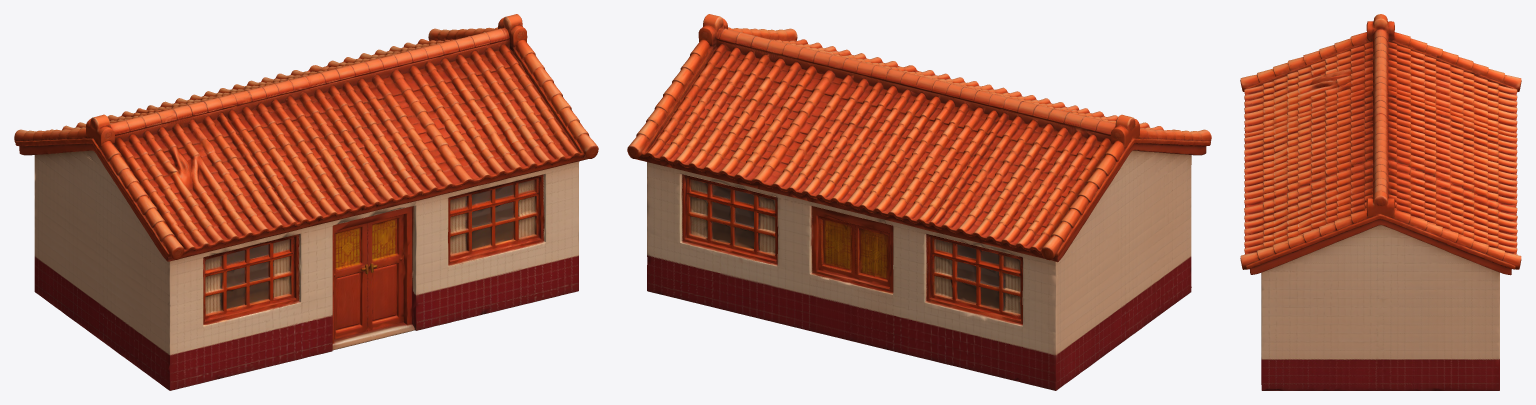
The model's file is main-house.glb.
The picture shows the model from 3 angles, left to right: view 1: azimuth 30°, elevation 25°; view 2: azimuth 150°, elevation 25°; view 3: azimuth 270°, elevation 25°; orthographic projection. The views are drawn at different scales.
Visible parts, largest first — view 1: tripo_node_3c93d61f-d715-45c0-92f2-b03ec6f75134; view 2: tripo_node_3c93d61f-d715-45c0-92f2-b03ec6f75134; view 3: tripo_node_3c93d61f-d715-45c0-92f2-b03ec6f75134.
Part boxes in pixels (left/top/right/bottom): tripo_node_3c93d61f-d715-45c0-92f2-b03ec6f75134: left=14, top=14, right=598, bottom=390; tripo_node_3c93d61f-d715-45c0-92f2-b03ec6f75134: left=627, top=14, right=1211, bottom=390; tripo_node_3c93d61f-d715-45c0-92f2-b03ec6f75134: left=1240, top=14, right=1521, bottom=390.
Size of the model in its own units: 1 by 0.5015 by 0.6437.
Materials: 1 (1 with a texture image).
